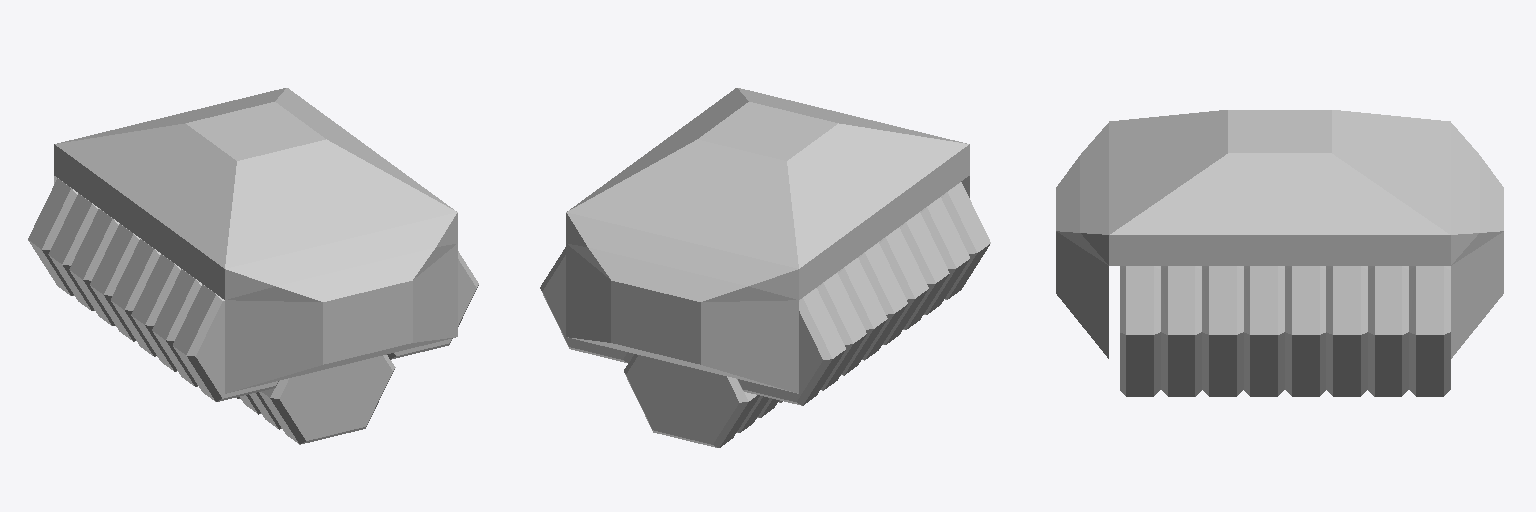
File: expansion_cargo_bay.obj
The picture shows the model from 3 angles: view 1: azimuth 30°, elevation 25°; view 2: azimuth 150°, elevation 25°; view 3: azimuth 270°, elevation 25°; orthographic projection.
Visible parts, largest first — view 1: Cube.001; view 2: Cube.001; view 3: Cube.001.
Boxes of the visible parts, <box> form: Cube.001: <box>28,88,478,444</box>; Cube.001: <box>540,88,990,447</box>; Cube.001: <box>1056,110,1503,396</box>.
Size of the model in its own units: 1.96 by 1.6 by 2.6.